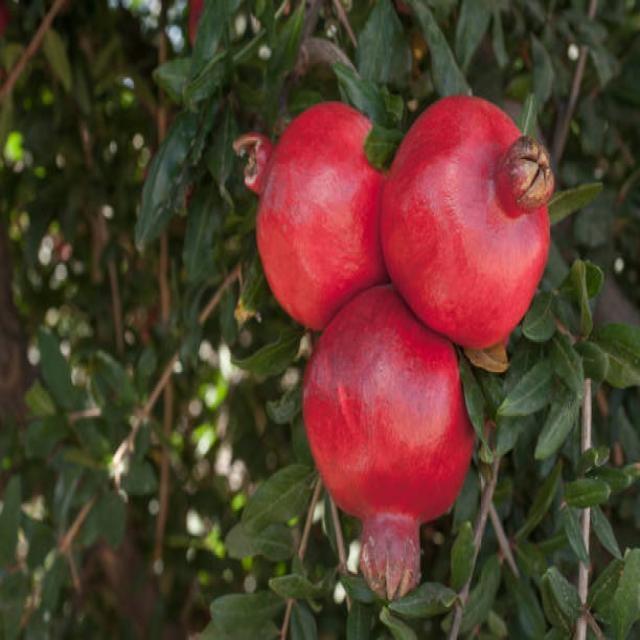Ripe: (296, 284, 479, 592), (381, 90, 556, 356), (231, 98, 389, 319)
